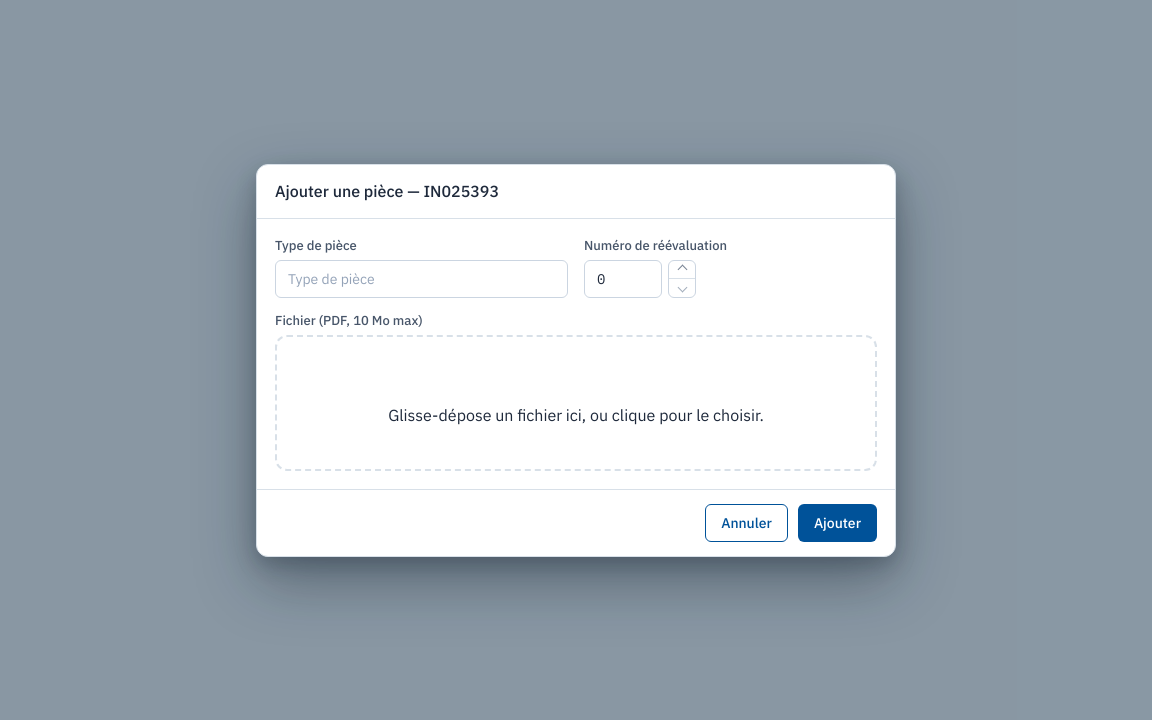
Test: AddPieceInvestissementModal › refuse la soumission sans fichier sélectionné
The image size is (1152, 720).
Click the button "Ajouter".
click(837, 522)  # box [798, 504, 877, 542]
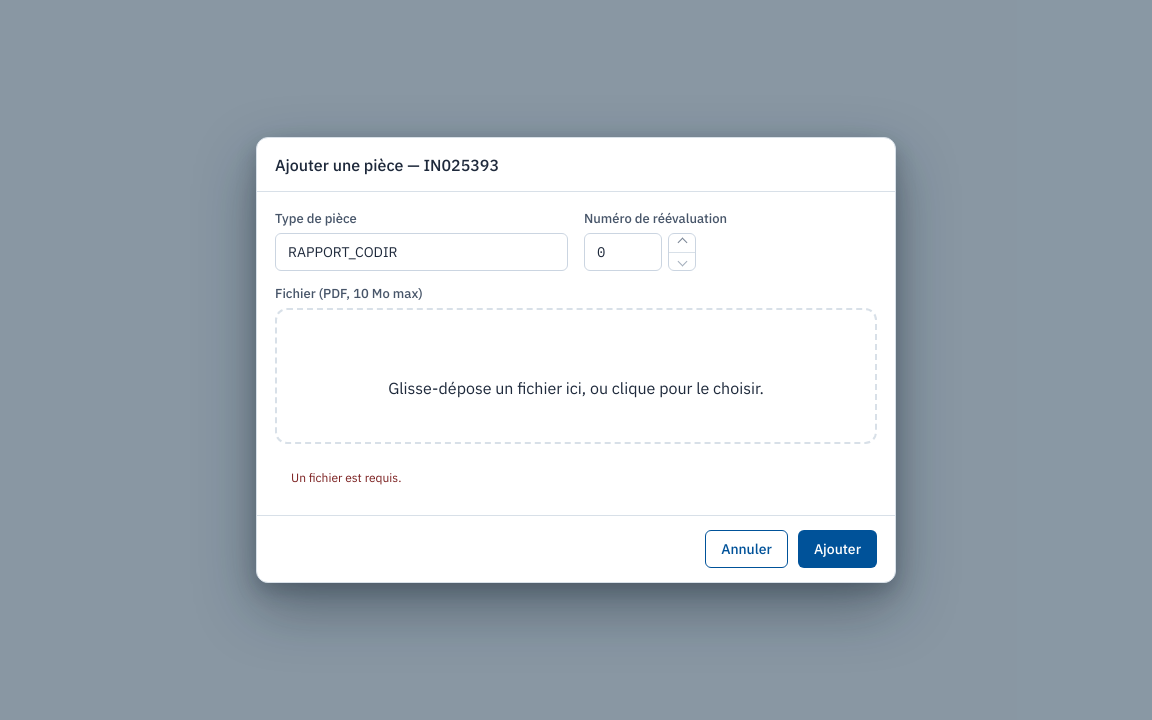
Result: the text "Un fichier est requis." is shown at [275, 470, 401, 485]
